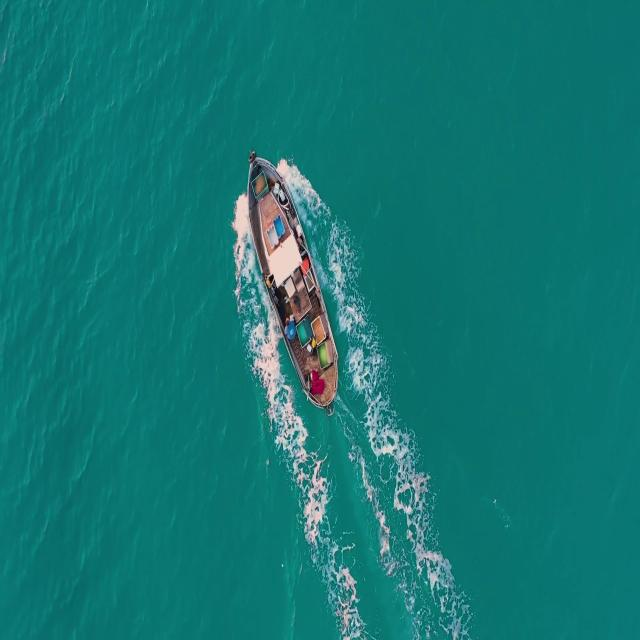ship: (248, 148, 342, 413)
